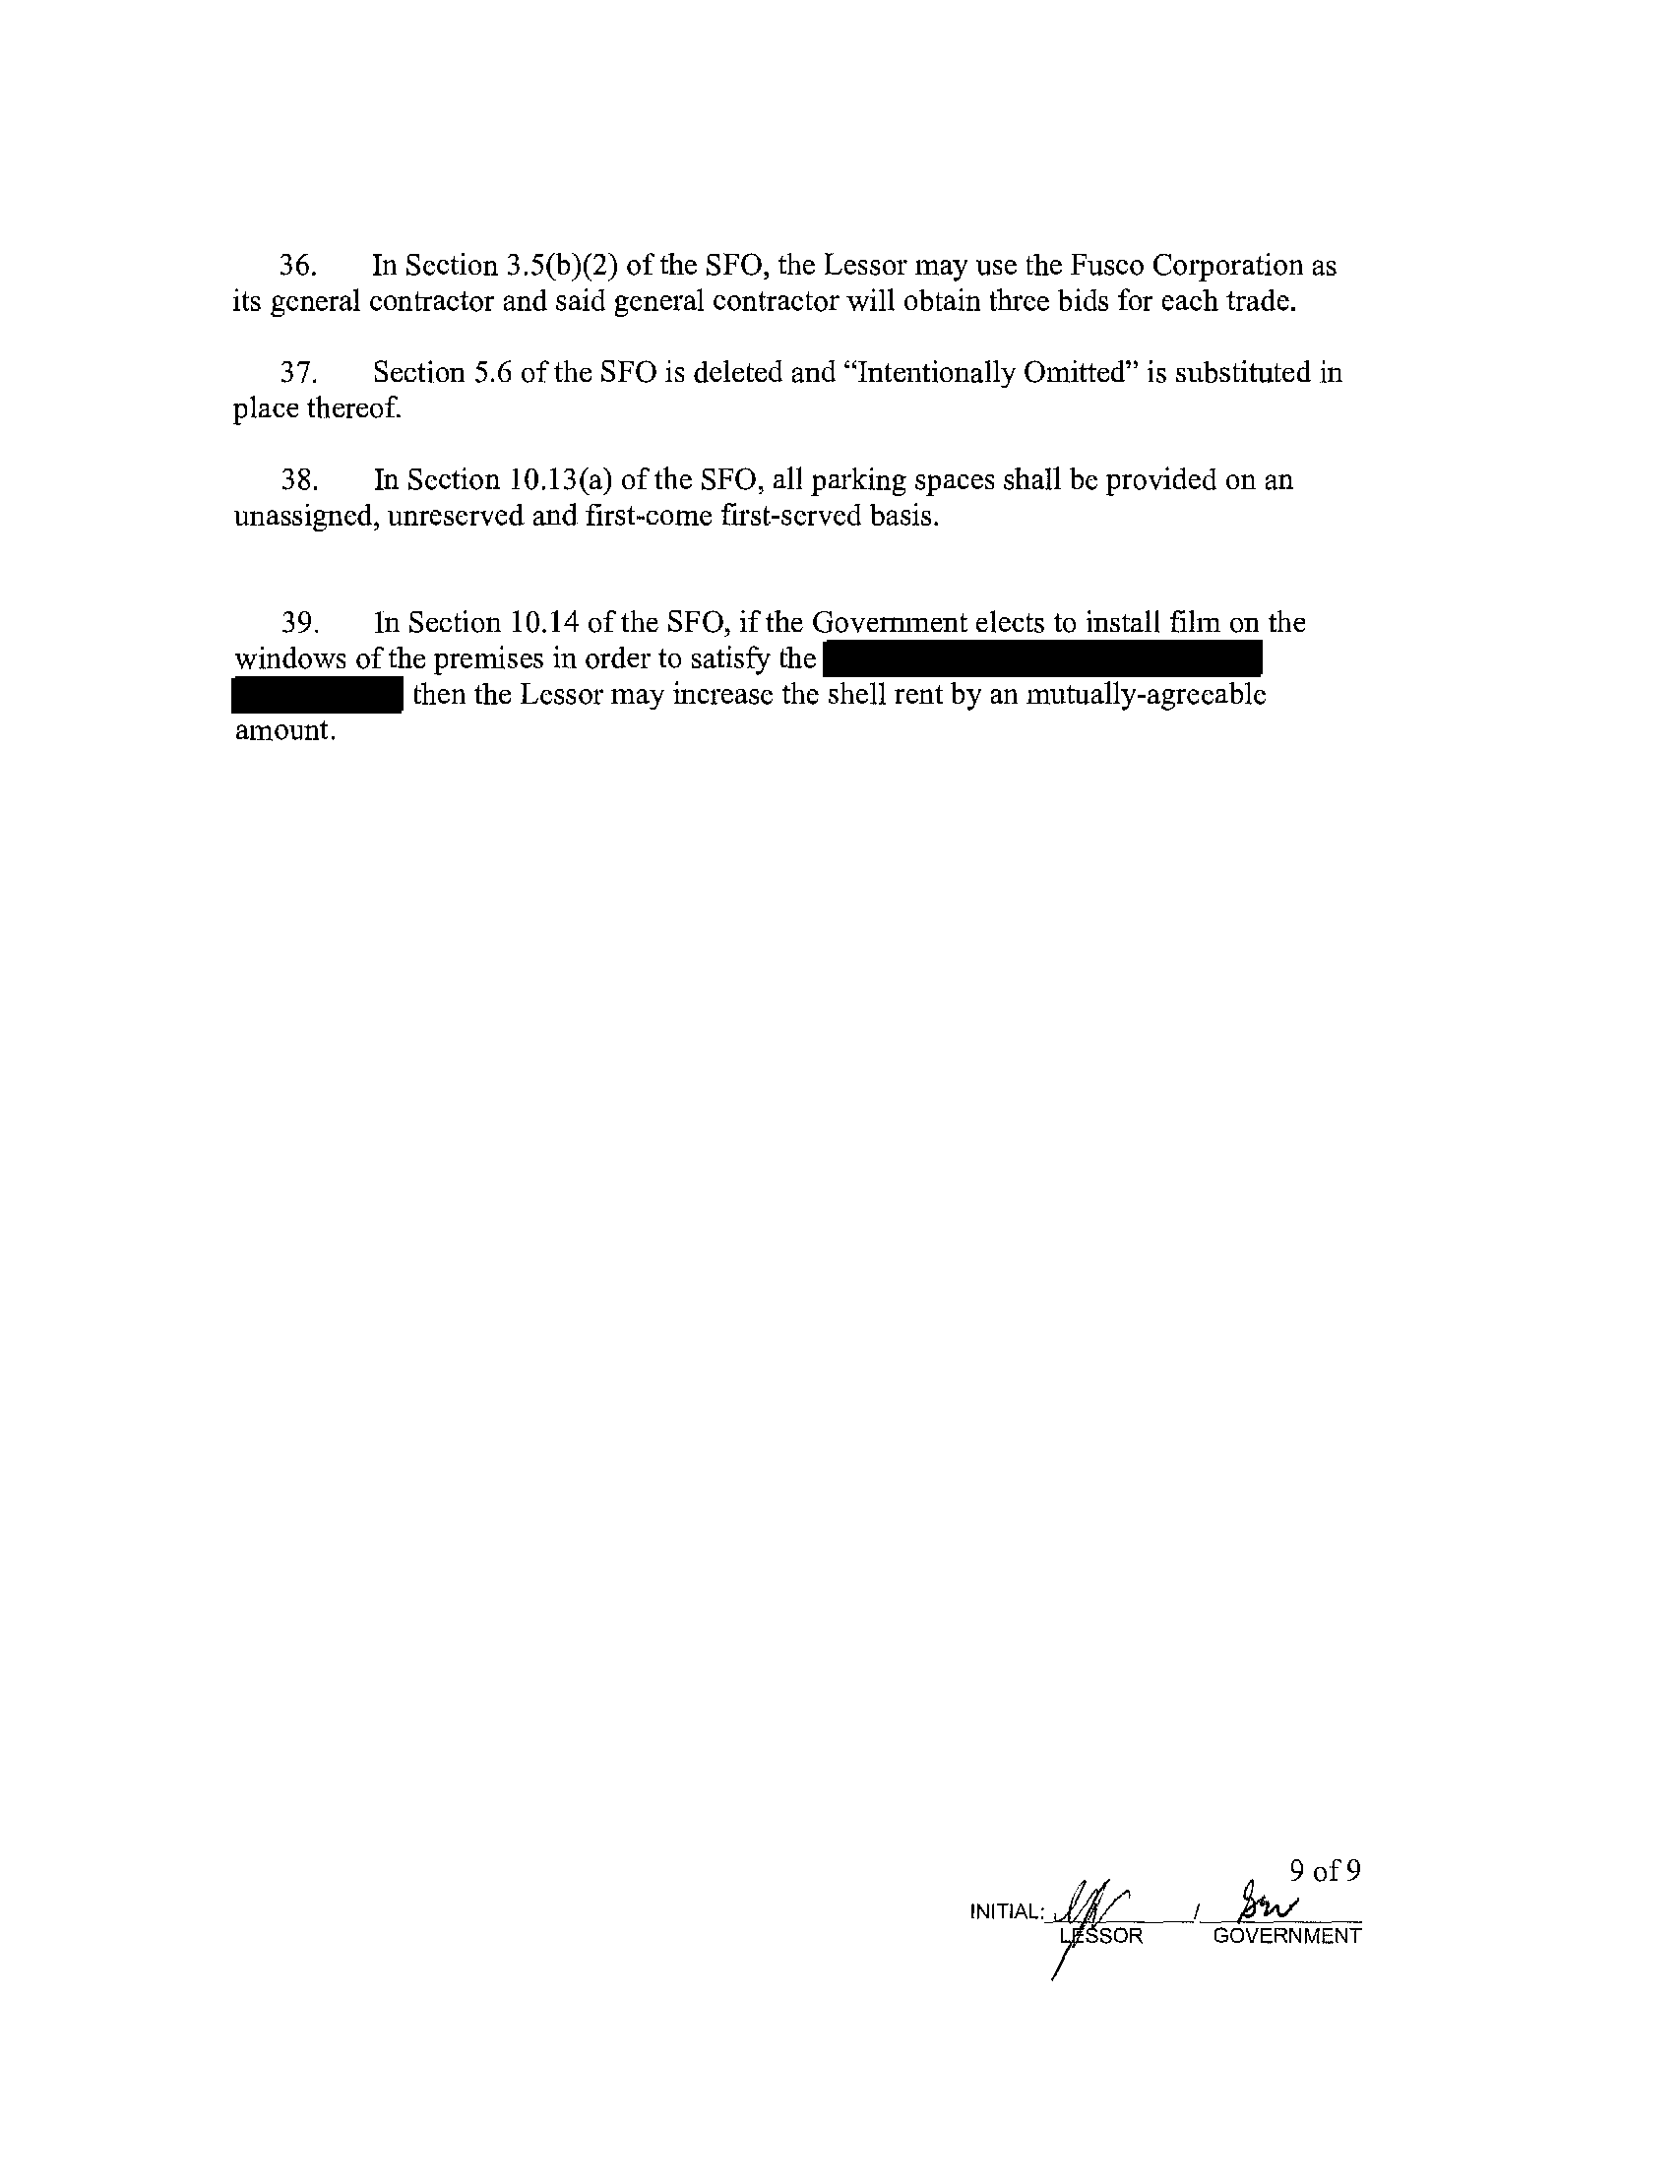handwritten: (1054, 1858, 1124, 1988), (1230, 1870, 1325, 1930)
